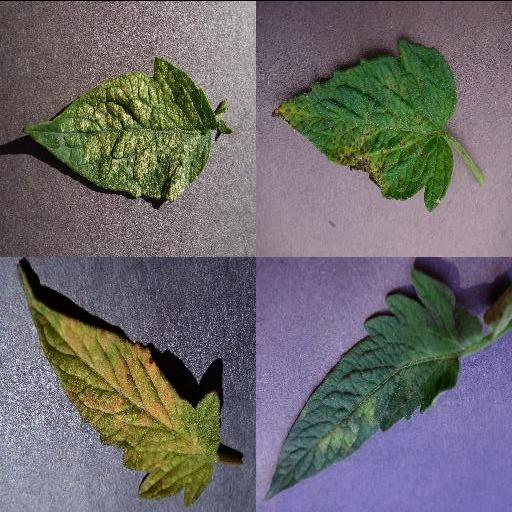Leaf Mold: (264, 267, 482, 499), (16, 264, 224, 504)
Septoria: (271, 36, 455, 210)
Spider Mites: (24, 57, 216, 201)
